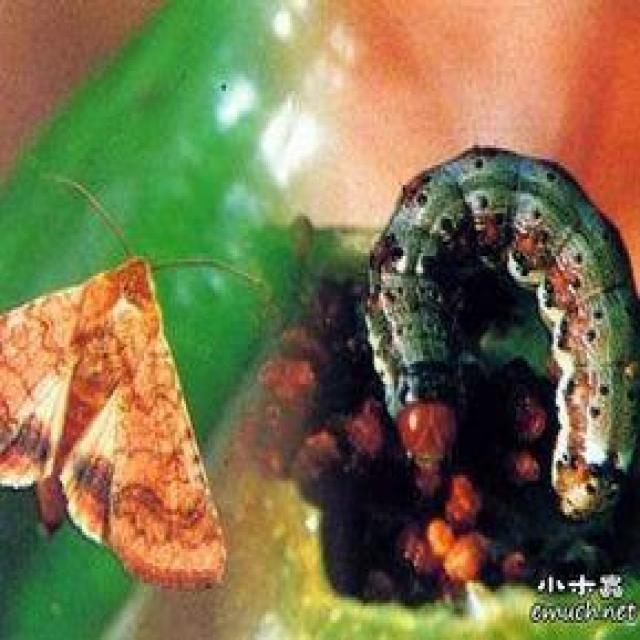BeetArmyWorm-Adult-: (0, 226, 261, 604)
BeetArmyWorm-Larva-: (357, 132, 638, 527)
